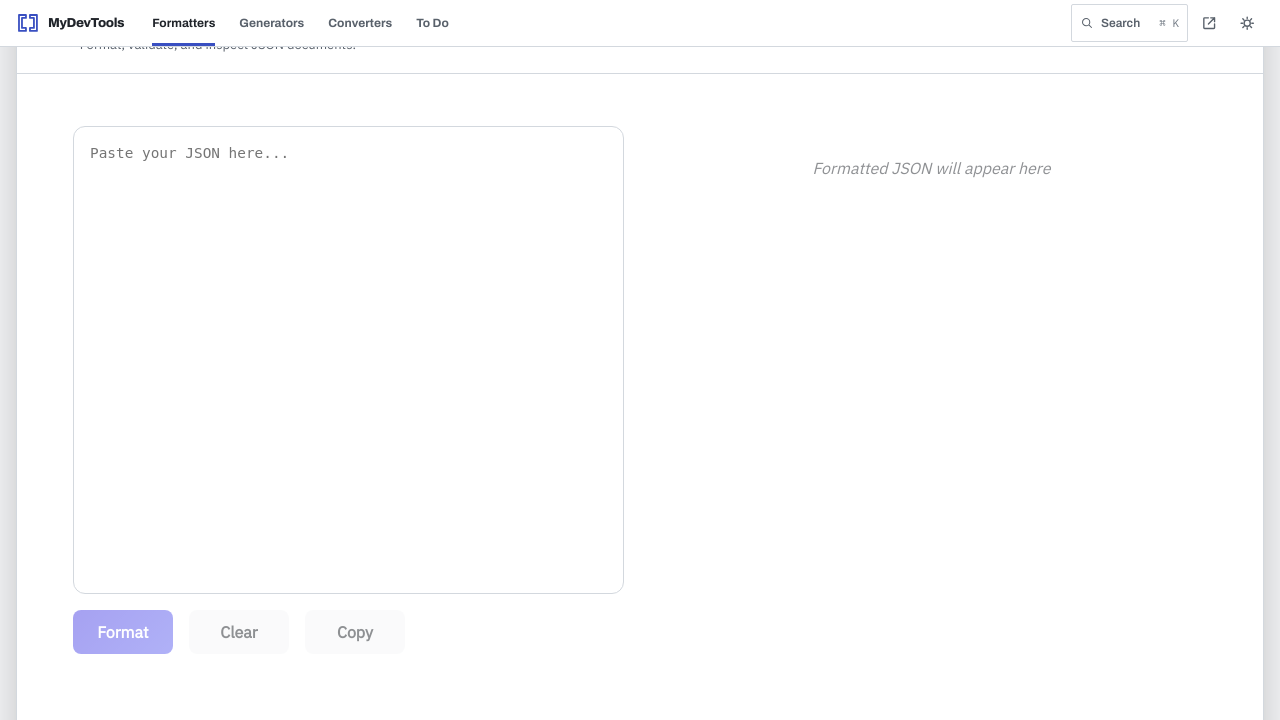
Scenario: JsonFormatter Component › formats valid JSON
(page scrolled)
Step 1. Press {"foo": "bar", "num": 42, "bool": true} in the text box with test id "json-input", box [73,126,624,594]
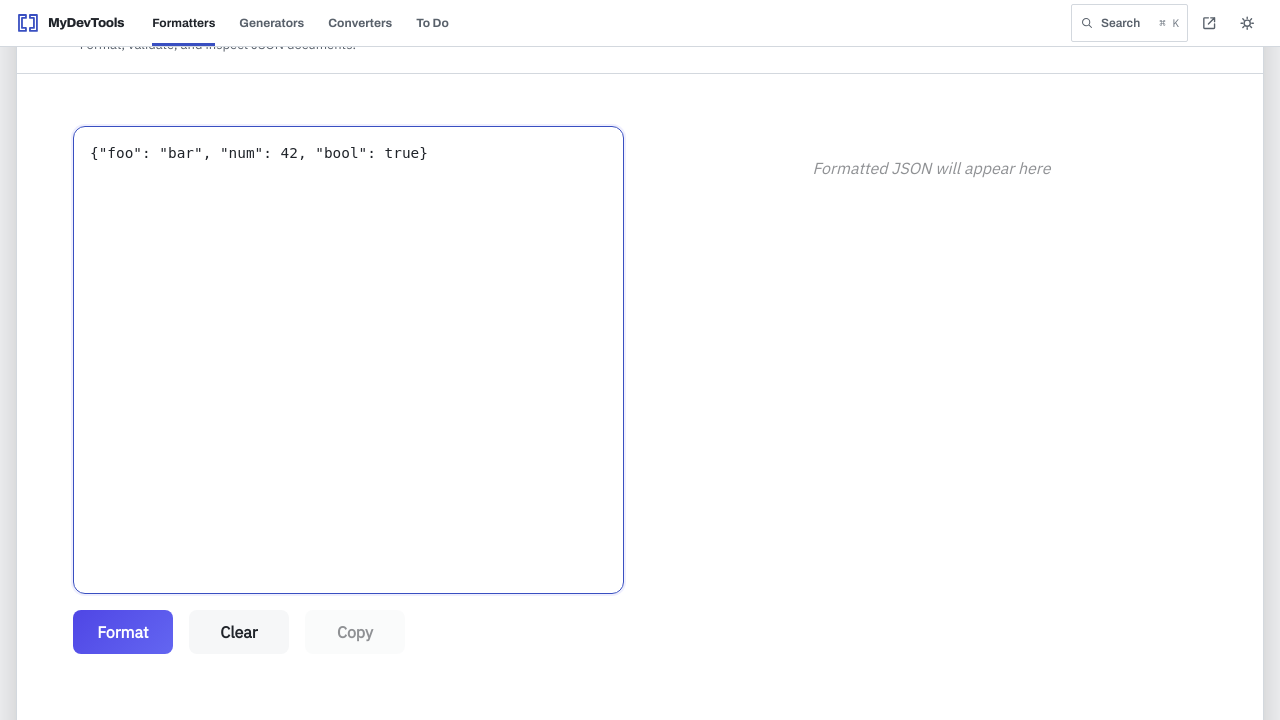
Step 2. Click the button with test id "format-btn" → {"x": 123, "y": 632}, box [73,610,173,654]
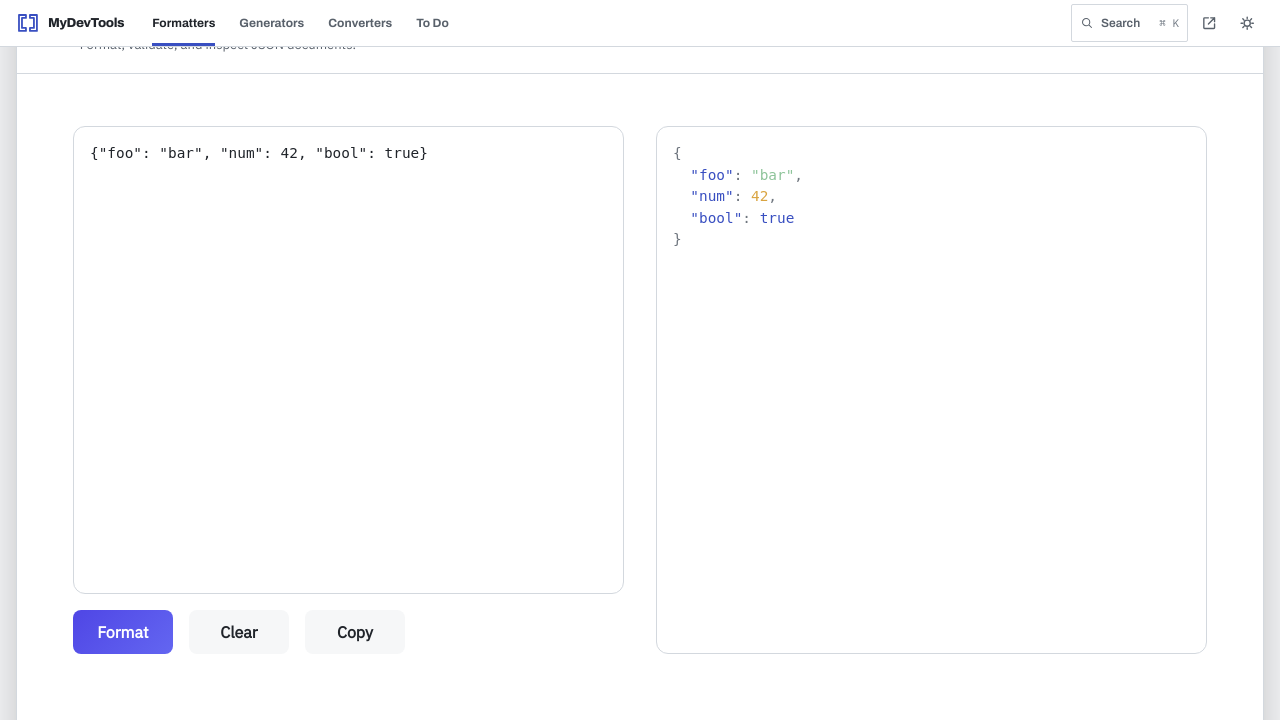
Expected: the element with test id "json-output" shows "\"foo\"", [656,126,1207,654]
Expected: the element with test id "json-output" shows "\"bar\"", [656,126,1207,654]
Expected: the element with test id "json-output" shows "\"num\"", [656,126,1207,654]
